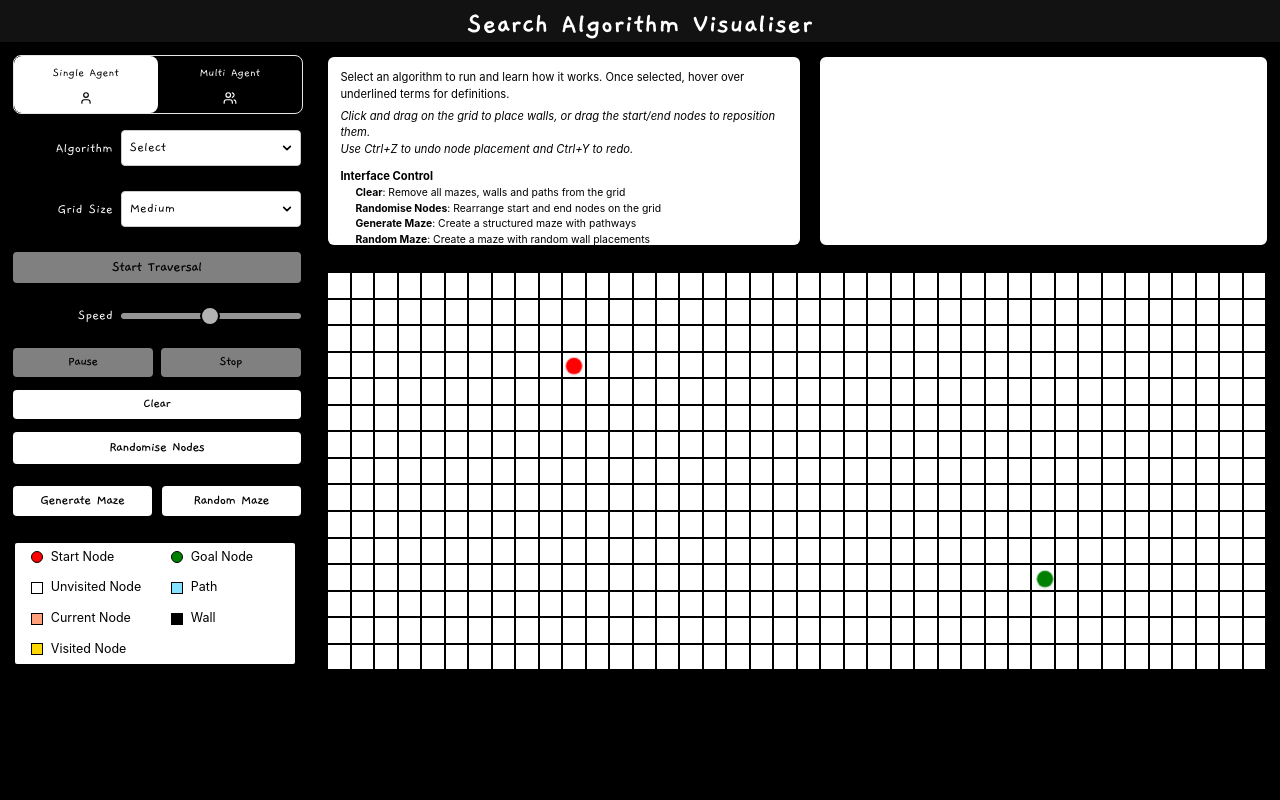
Test: Algorithm Visualizer › Multi-Agent Mode › adds an agent when the Add Agent button is clicked
Expected: the header with id "app-header" is shown, [0,0,1279,42]
Click the button "Multi Agent".
click(230, 85)  # box [158,56,302,113]
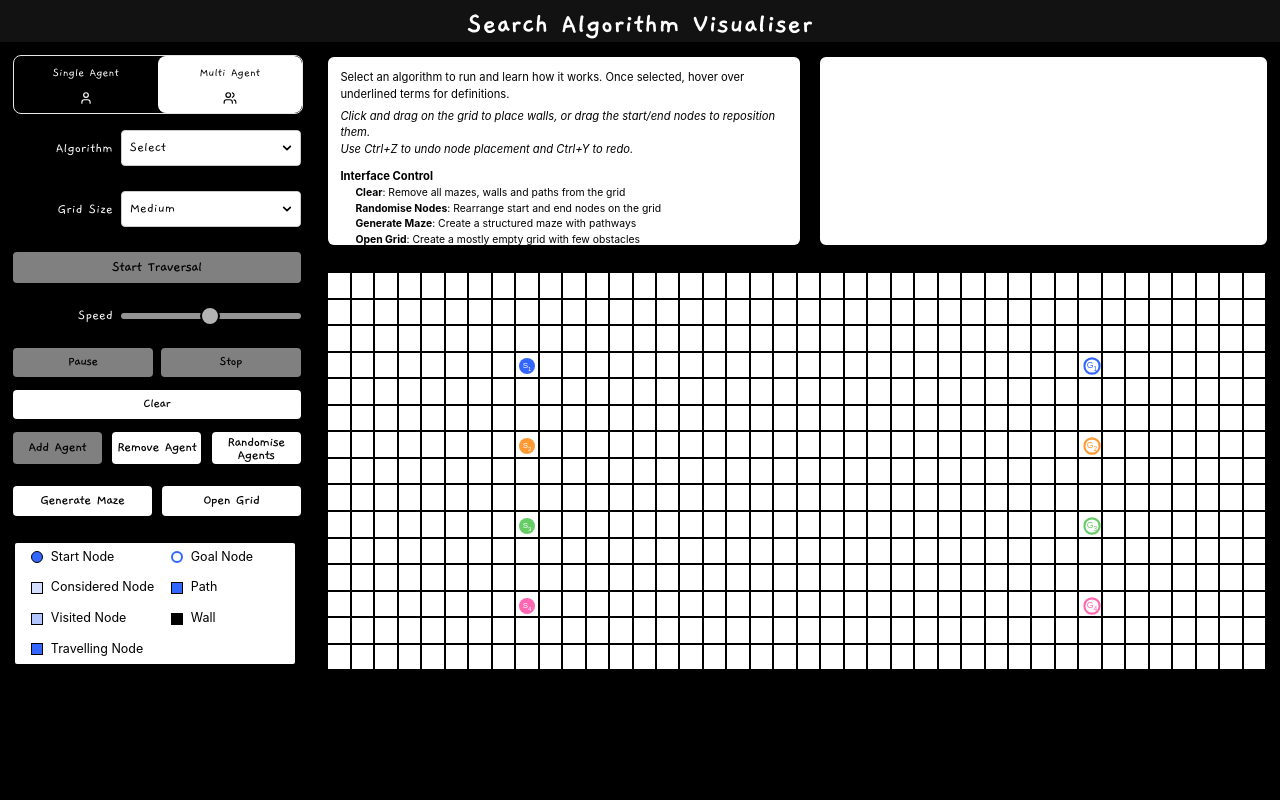
Click the button "Remove Agent".
click(157, 448)  # box [112,432,201,464]
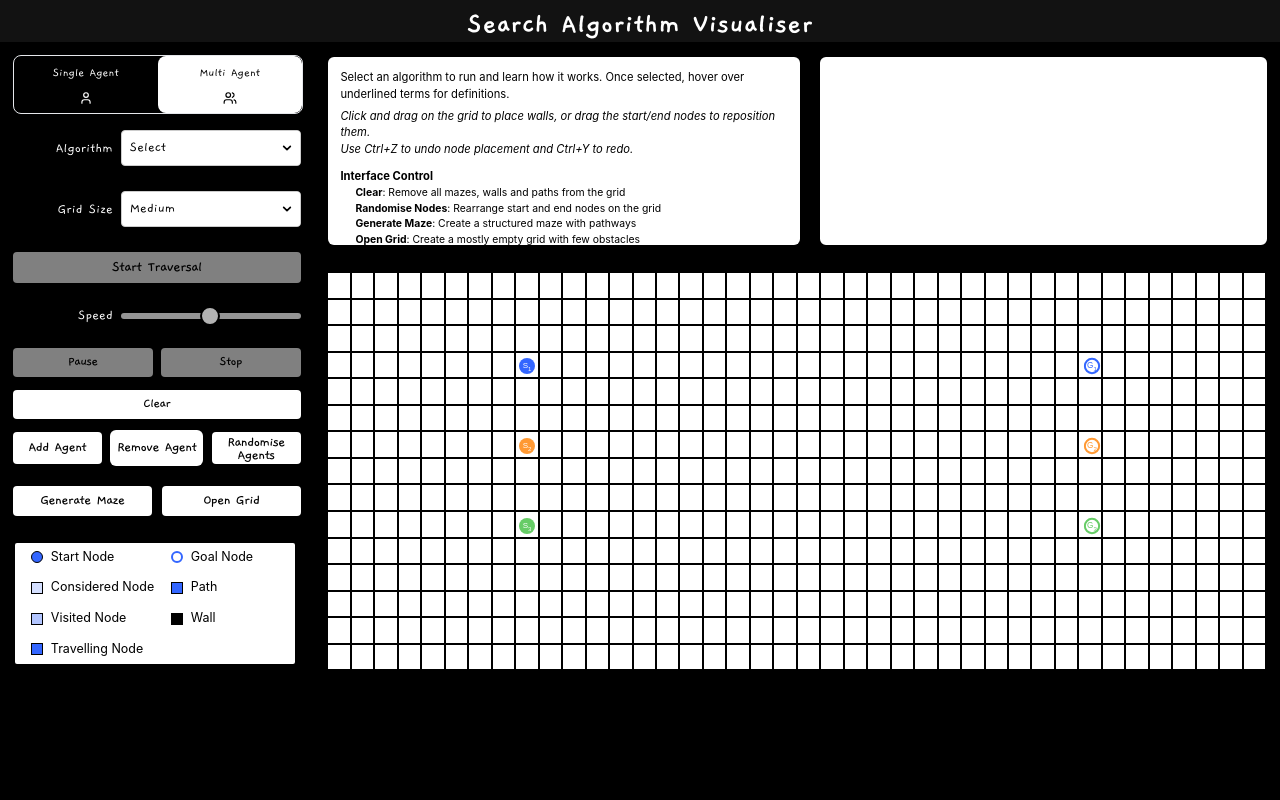
Click the button "Add Agent".
click(58, 448)  # box [13,432,102,464]
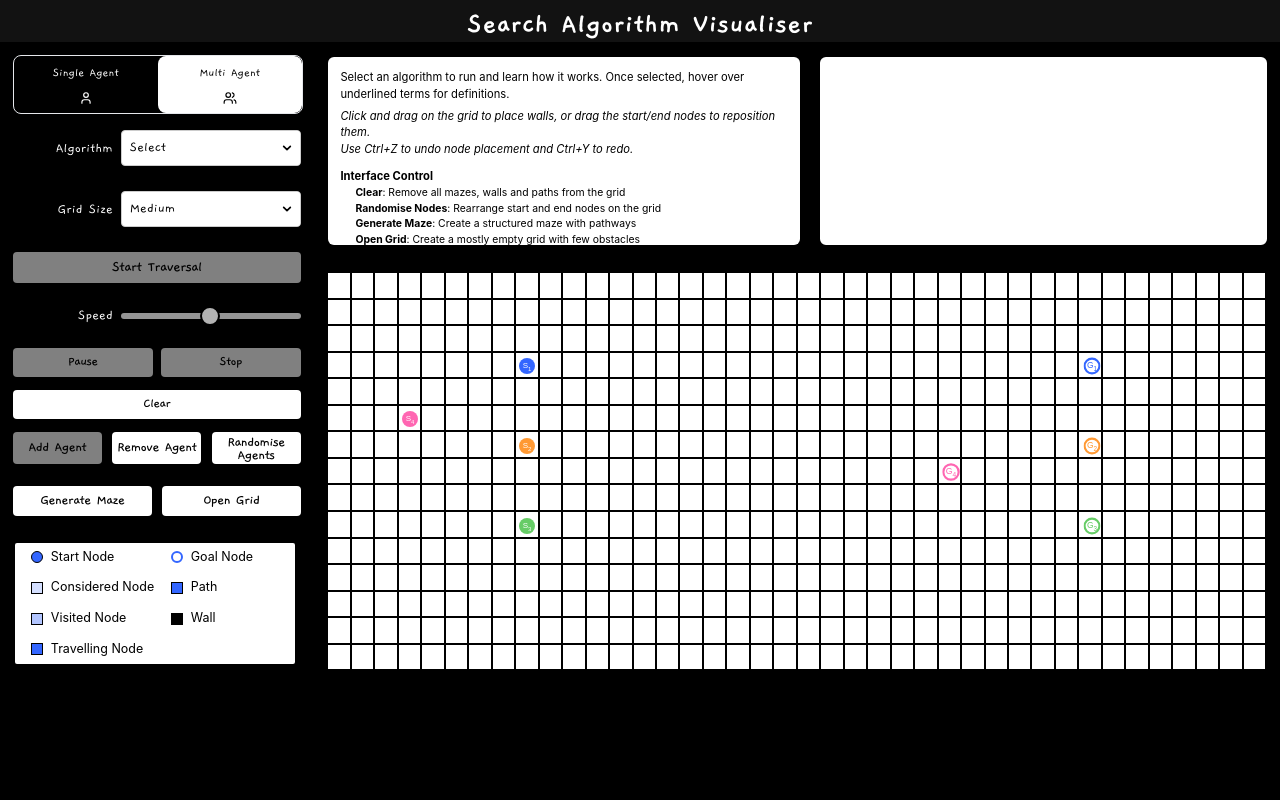
Expected: the number of elements with class "grid-node" is more than 6
